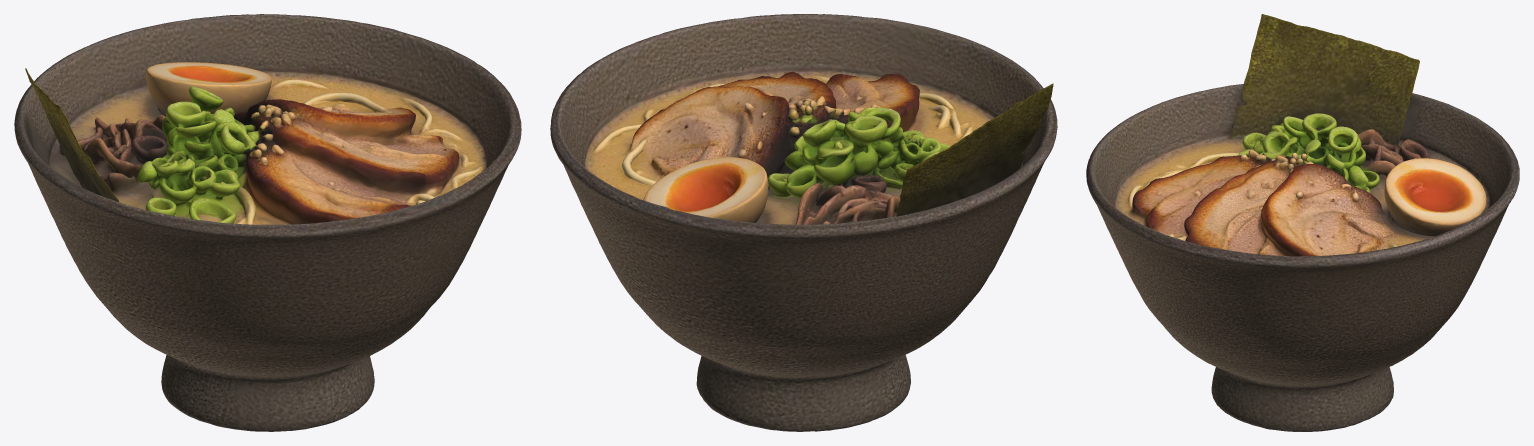
Rendered from tonkotsu-ramen.glb.
3 views of the same model, side by side, from view 1: azimuth 30°, elevation 25°; view 2: azimuth 150°, elevation 25°; view 3: azimuth 270°, elevation 25° (orthographic). The views are drawn at different scales.
Parts seen in each view (by area): view 1: tripo_node_66407cbc-5924-4108-ac3c-2536b8babac4; view 2: tripo_node_66407cbc-5924-4108-ac3c-2536b8babac4; view 3: tripo_node_66407cbc-5924-4108-ac3c-2536b8babac4.
Boxes of the visible parts, x1,y1,x2,y2 form: tripo_node_66407cbc-5924-4108-ac3c-2536b8babac4: (14, 14, 521, 431); tripo_node_66407cbc-5924-4108-ac3c-2536b8babac4: (550, 14, 1057, 431); tripo_node_66407cbc-5924-4108-ac3c-2536b8babac4: (1086, 14, 1519, 431).
Size of the model in its own units: 1 by 0.736 by 0.9999.
1 material, 1 textured.
